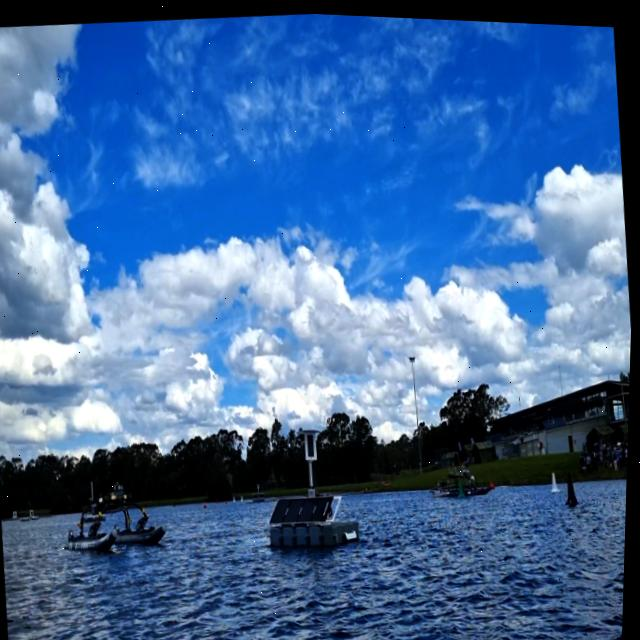led: (307, 429, 319, 456)
